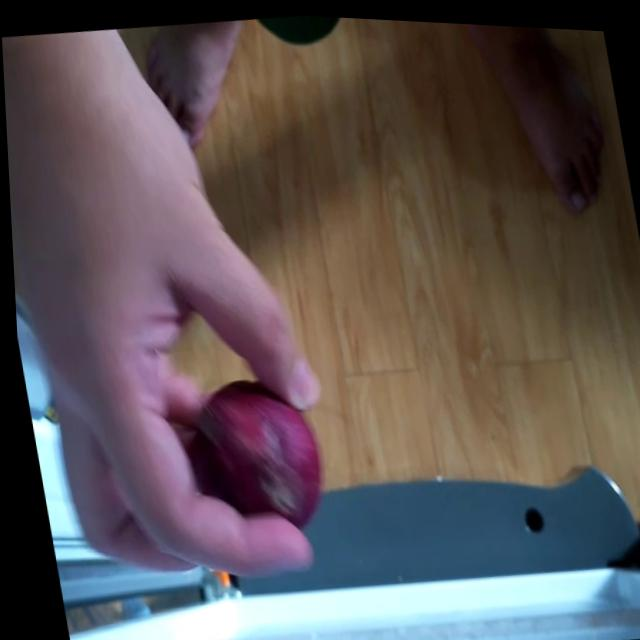onion: (183, 371, 324, 541)
